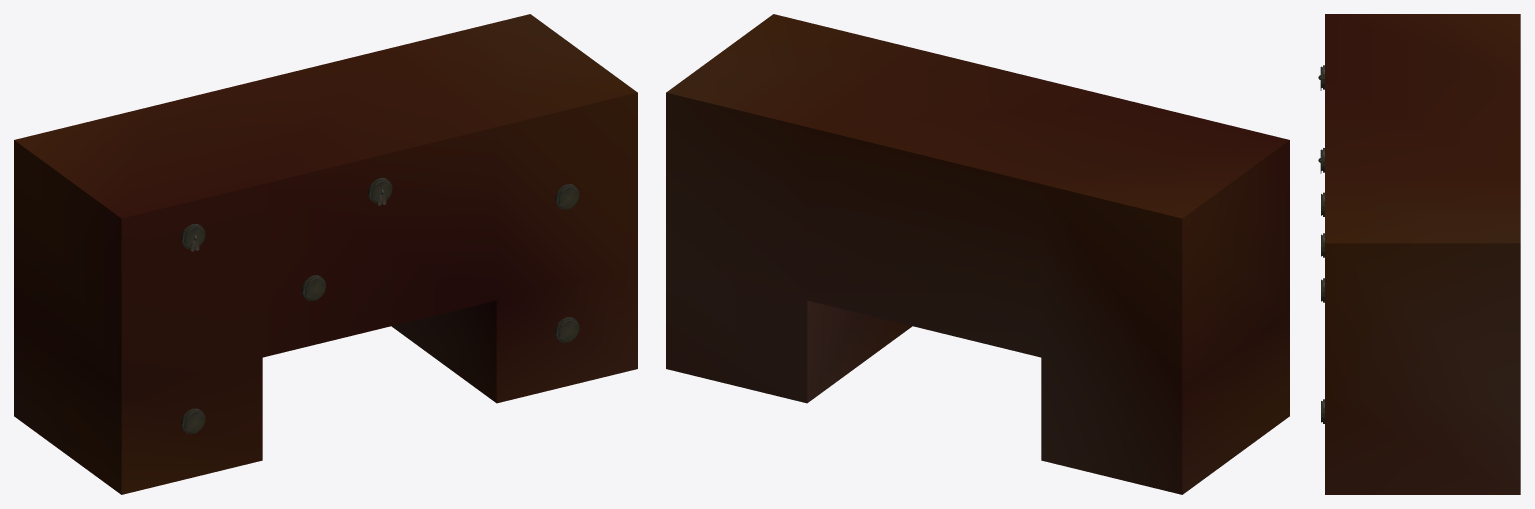
File: mungap_5e8a0e41.glb
The picture shows the model from 3 angles, left to right: view 1: azimuth 30°, elevation 25°; view 2: azimuth 150°, elevation 25°; view 3: azimuth 270°, elevation 25°; orthographic projection. The views are drawn at different scales.
Parts seen in each view (by area): view 1: Cube_SM_Mungap_0; view 2: Cube_SM_Mungap_0; view 3: Cube_SM_Mungap_0.
Boxes of the visible parts, x1=… form: Cube_SM_Mungap_0: x1=14, y1=14, x2=637, y2=494; Cube_SM_Mungap_0: x1=666, y1=14, x2=1289, y2=494; Cube_SM_Mungap_0: x1=1318, y1=14, x2=1520, y2=494.
Bounding box in the file's own units: 0.999 × 0.511 × 0.3722.
